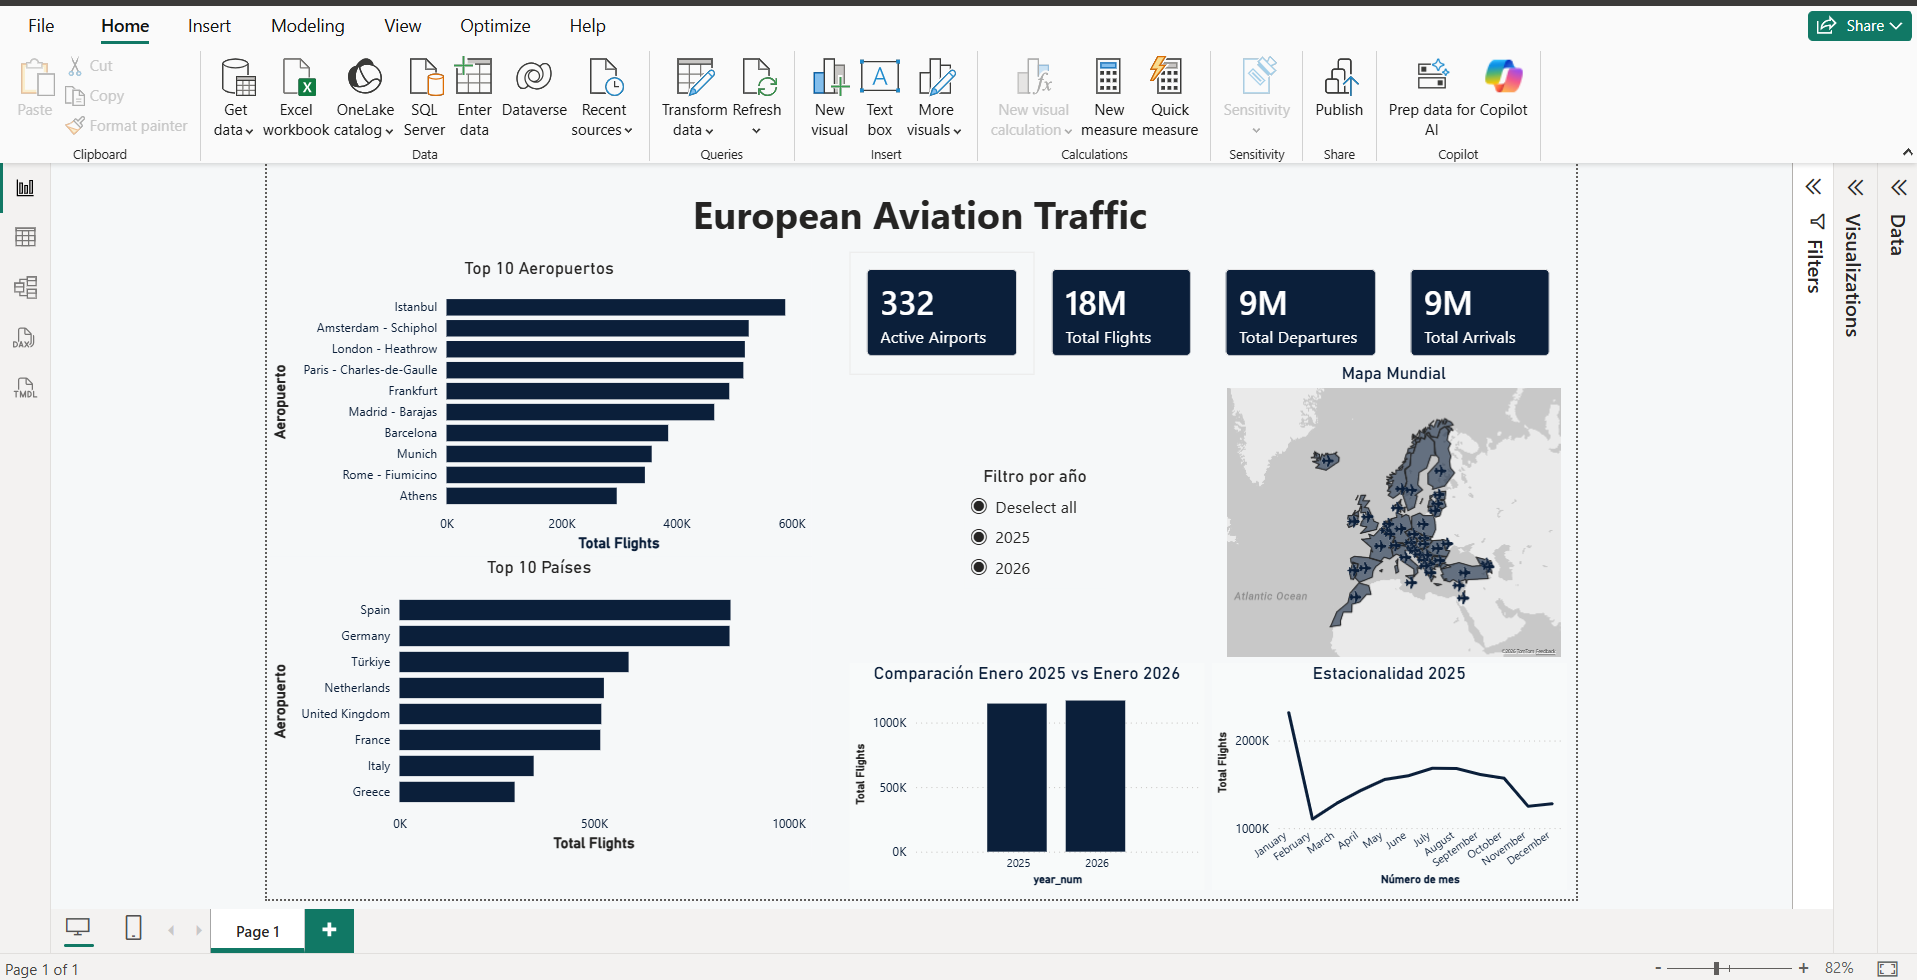

Layout of this report page (visuals, bound fields, positions):
{"tool":"powerbi","page":{"name":"Page 1","canvas":[1280,720],"ordinal":0},"visuals":[{"type":"azureMap","title":"Mapa Mundial","fields":{"Category":["aviation_db flights.state_name"]},"box":[934.2,195.7,336.3,293.5],"z":0},{"type":"textbox","box":[403.5,19.6,470.8,73.4],"z":1000},{"type":"group","id":"g1","title":"Group 1","box":[569.8,86.8,701.9,118.6],"z":2000},{"type":"cardVisual","fields":{"Data":["aviation_db flights.Active Airports"]},"box":[569.8,86.8,181.1,119.4],"z":2000,"group":"g1"},{"type":"barChart","title":"Top 10 Aeropuertos","fields":{"Category":["aviation_db flights.apt_name"],"Y":["aviation_db flights.Total Flights"]},"box":[0,93.3,532.4,292.3],"z":2000,"group":"g2"},{"type":"cardVisual","fields":{"Data":["aviation_db flights.Total Arrivals"]},"box":[1102.2,86.8,170.2,119.4],"z":3000,"group":"g1"},{"type":"group","id":"g2","title":"Group 2","box":[0,93.3,532.4,585.9],"z":3000},{"type":"barChart","title":"Top 10 Países ","fields":{"Y":["aviation_db flights.Total Flights"],"Category":["aviation_db flights.state_name"]},"box":[0,385.6,532.4,293.7],"z":3000,"group":"g2"},{"type":"cardVisual","fields":{"Data":["aviation_db flights.Total Departures"]},"box":[921.1,86.8,181.1,119.4],"z":4000,"group":"g1"},{"type":"lineChart","title":"Estacionalidad 2025","fields":{"Y":["aviation_db flights.Total Flights"],"Category":["aviation_db flights.month_name"]},"box":[924.4,489.1,347.3,222.6],"z":4000,"group":"g3"},{"type":"cardVisual","fields":{"Data":["aviation_db flights.Total Flights"]},"box":[750.9,86.8,170.2,119.4],"z":5000,"group":"g1"},{"type":"clusteredColumnChart","title":"Comparación Enero 2025 vs Enero 2026","fields":{"Y":["aviation_db flights.Total Flights"],"Category":["aviation_db flights.year_num"],"Series":["aviation_db flights.month_name"]},"box":[569.8,489.1,347.3,222.6],"z":5000,"group":"g3"},{"type":"listSlicer","title":"Filtro por año","fields":{"Values":["aviation_db flights.year_num"]},"box":[682.3,295.9,138.2,119.8],"z":5001},{"type":"group","id":"g3","title":"Group 3","box":[569.8,489.1,701.9,222.6],"z":5002}]}

Visuals, with their boxes on the page's 1280x720 design canvas (x1, y1, x2, y2). These are canvas units, not pixel positions in the 1917x980 screenshot, which may show the page scaled, cropped or inside an application window:
"Mapa Mundial" azureMap: detection(934, 196, 1270, 489)
textbox: detection(404, 20, 874, 93)
"Group 1" group: detection(570, 87, 1272, 205)
cardVisual - aviation_db flights.Active Airports: detection(570, 87, 751, 206)
"Top 10 Aeropuertos" barChart: detection(0, 93, 532, 386)
cardVisual - aviation_db flights.Total Arrivals: detection(1102, 87, 1272, 206)
"Group 2" group: detection(0, 93, 532, 679)
"Top 10 Países " barChart: detection(0, 386, 532, 679)
cardVisual - aviation_db flights.Total Departures: detection(921, 87, 1102, 206)
"Estacionalidad 2025" lineChart: detection(924, 489, 1272, 712)
cardVisual - aviation_db flights.Total Flights: detection(751, 87, 921, 206)
"Comparación Enero 2025 vs Enero 2026" clusteredColumnChart: detection(570, 489, 917, 712)
"Filtro por año" listSlicer: detection(682, 296, 820, 416)
"Group 3" group: detection(570, 489, 1272, 712)
